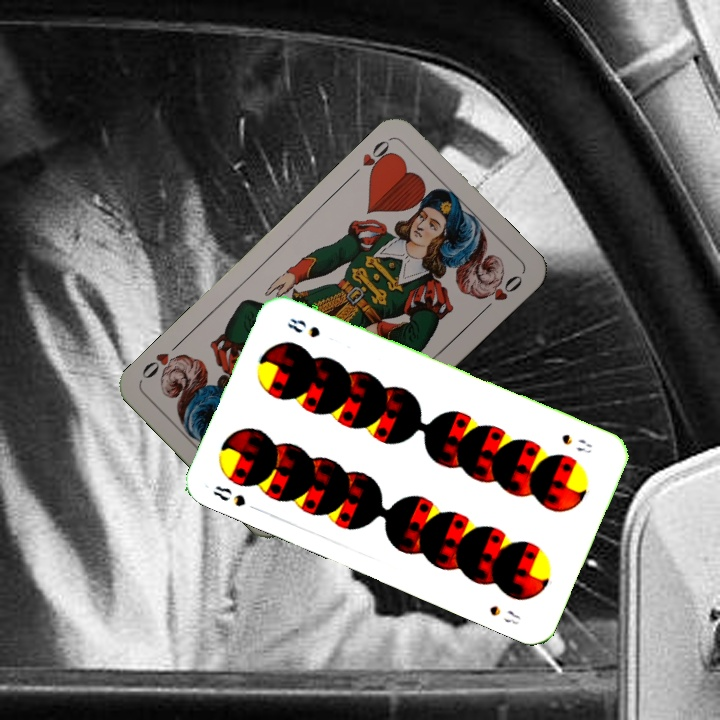HO: (346, 135, 397, 180)
S8: (209, 481, 248, 510), (557, 430, 595, 456)
